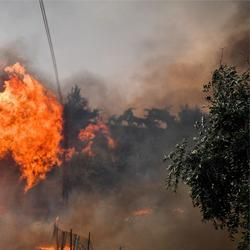fire: (2, 84, 64, 175)
